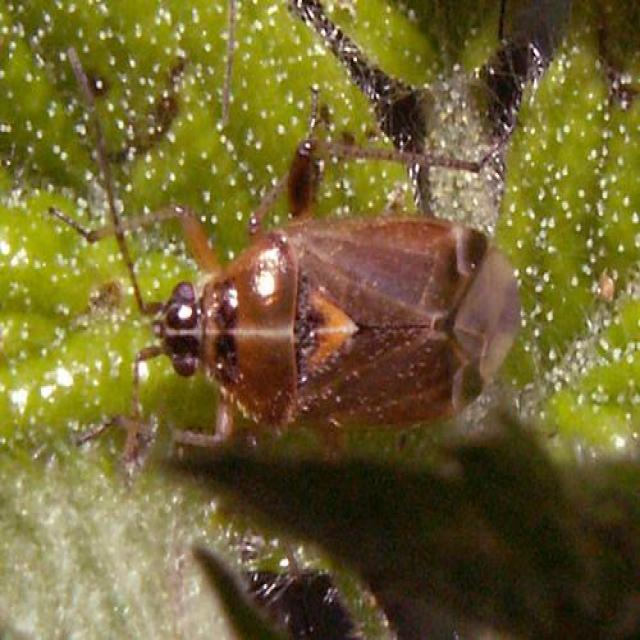Miridae-Adult-: (36, 33, 540, 470)
